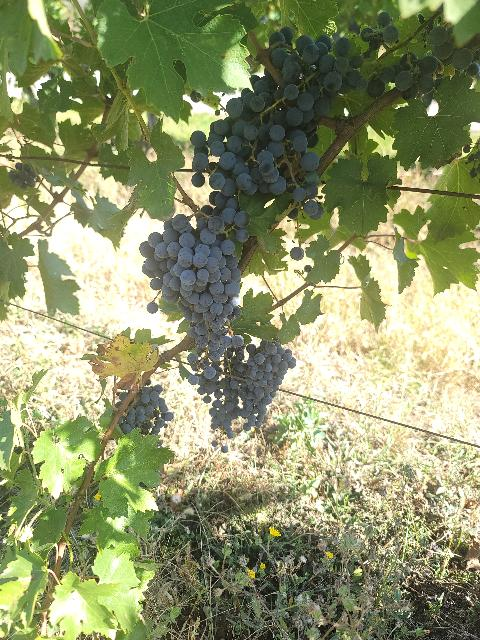grapes: (191, 75, 321, 202), (140, 214, 241, 346), (270, 26, 368, 140), (236, 340, 296, 430), (119, 385, 174, 435), (205, 378, 239, 434)
